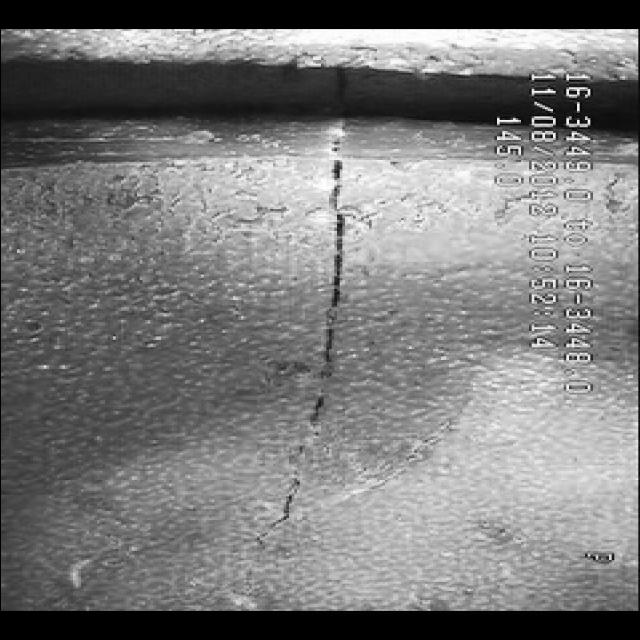Crack: (256, 158, 380, 500)
